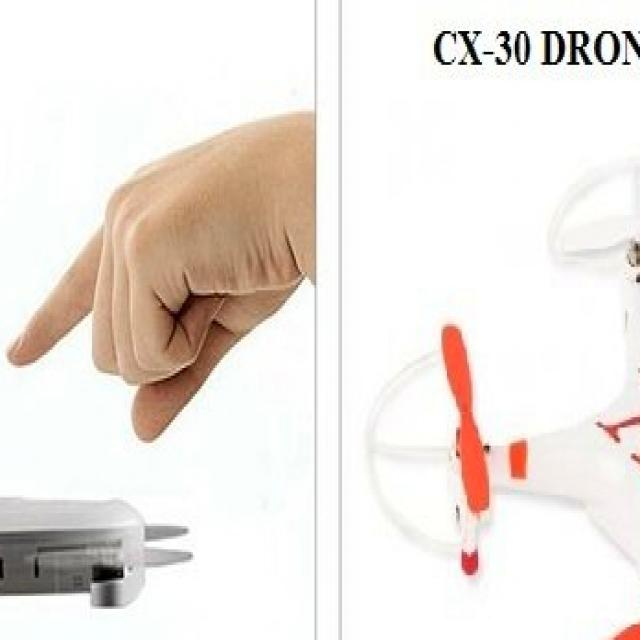drone: (358, 166, 640, 640), (0, 469, 223, 630)
